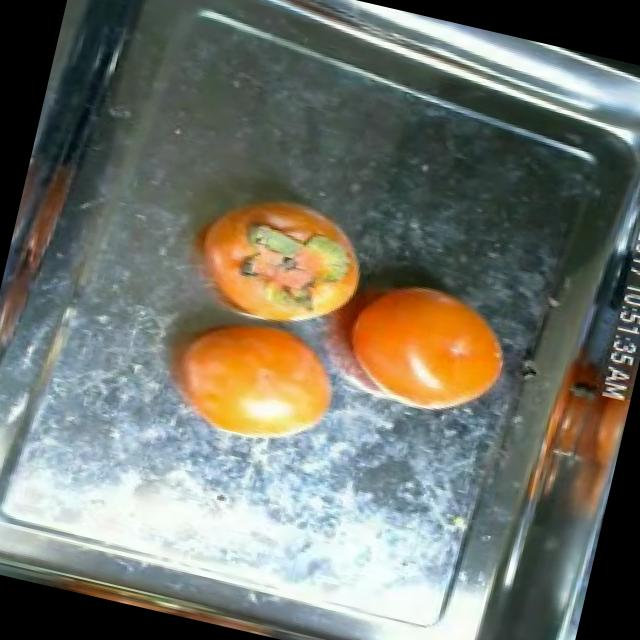Fruit: (312, 247, 538, 440), (140, 294, 364, 473)
